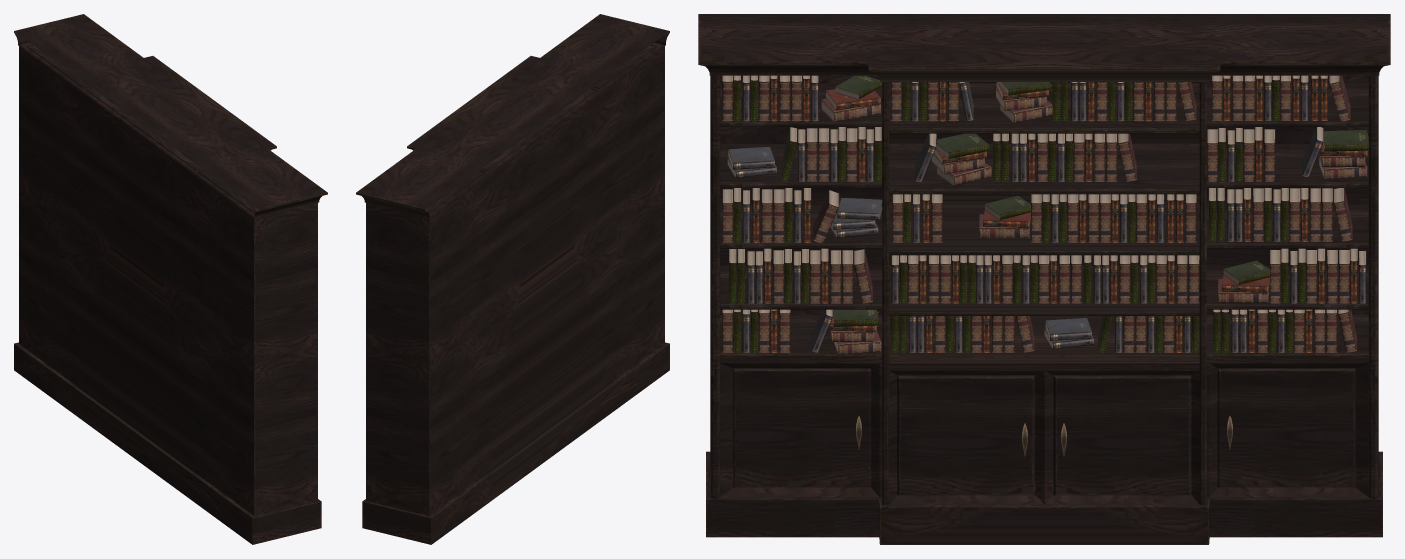
Rendered from bookshelf.glb.
3 renders of one model, left to right at view 1: azimuth 30°, elevation 25°; view 2: azimuth 150°, elevation 25°; view 3: azimuth 270°, elevation 25°, orthographic. The views are drawn at different scales.
Visible parts, largest first — view 1: pCube286_lambert1_0; view 2: pCube286_lambert1_0; view 3: pCube286_lambert1_0.
Boxes of the visible parts, x1,y1,x2,y2 form: pCube286_lambert1_0: [14, 14, 327, 544]; pCube286_lambert1_0: [356, 14, 669, 544]; pCube286_lambert1_0: [698, 14, 1390, 544].
Size of the model in its own units: 0.5816 by 2.29 by 3.01.
Materials: 1 (1 with a texture image).
